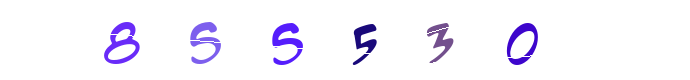3: (324, 0, 404, 80)
5: (307, 0, 387, 80)
8: (187, 0, 267, 80)
O: (391, 0, 471, 80)
S: (258, 0, 338, 80), (263, 0, 343, 80)
